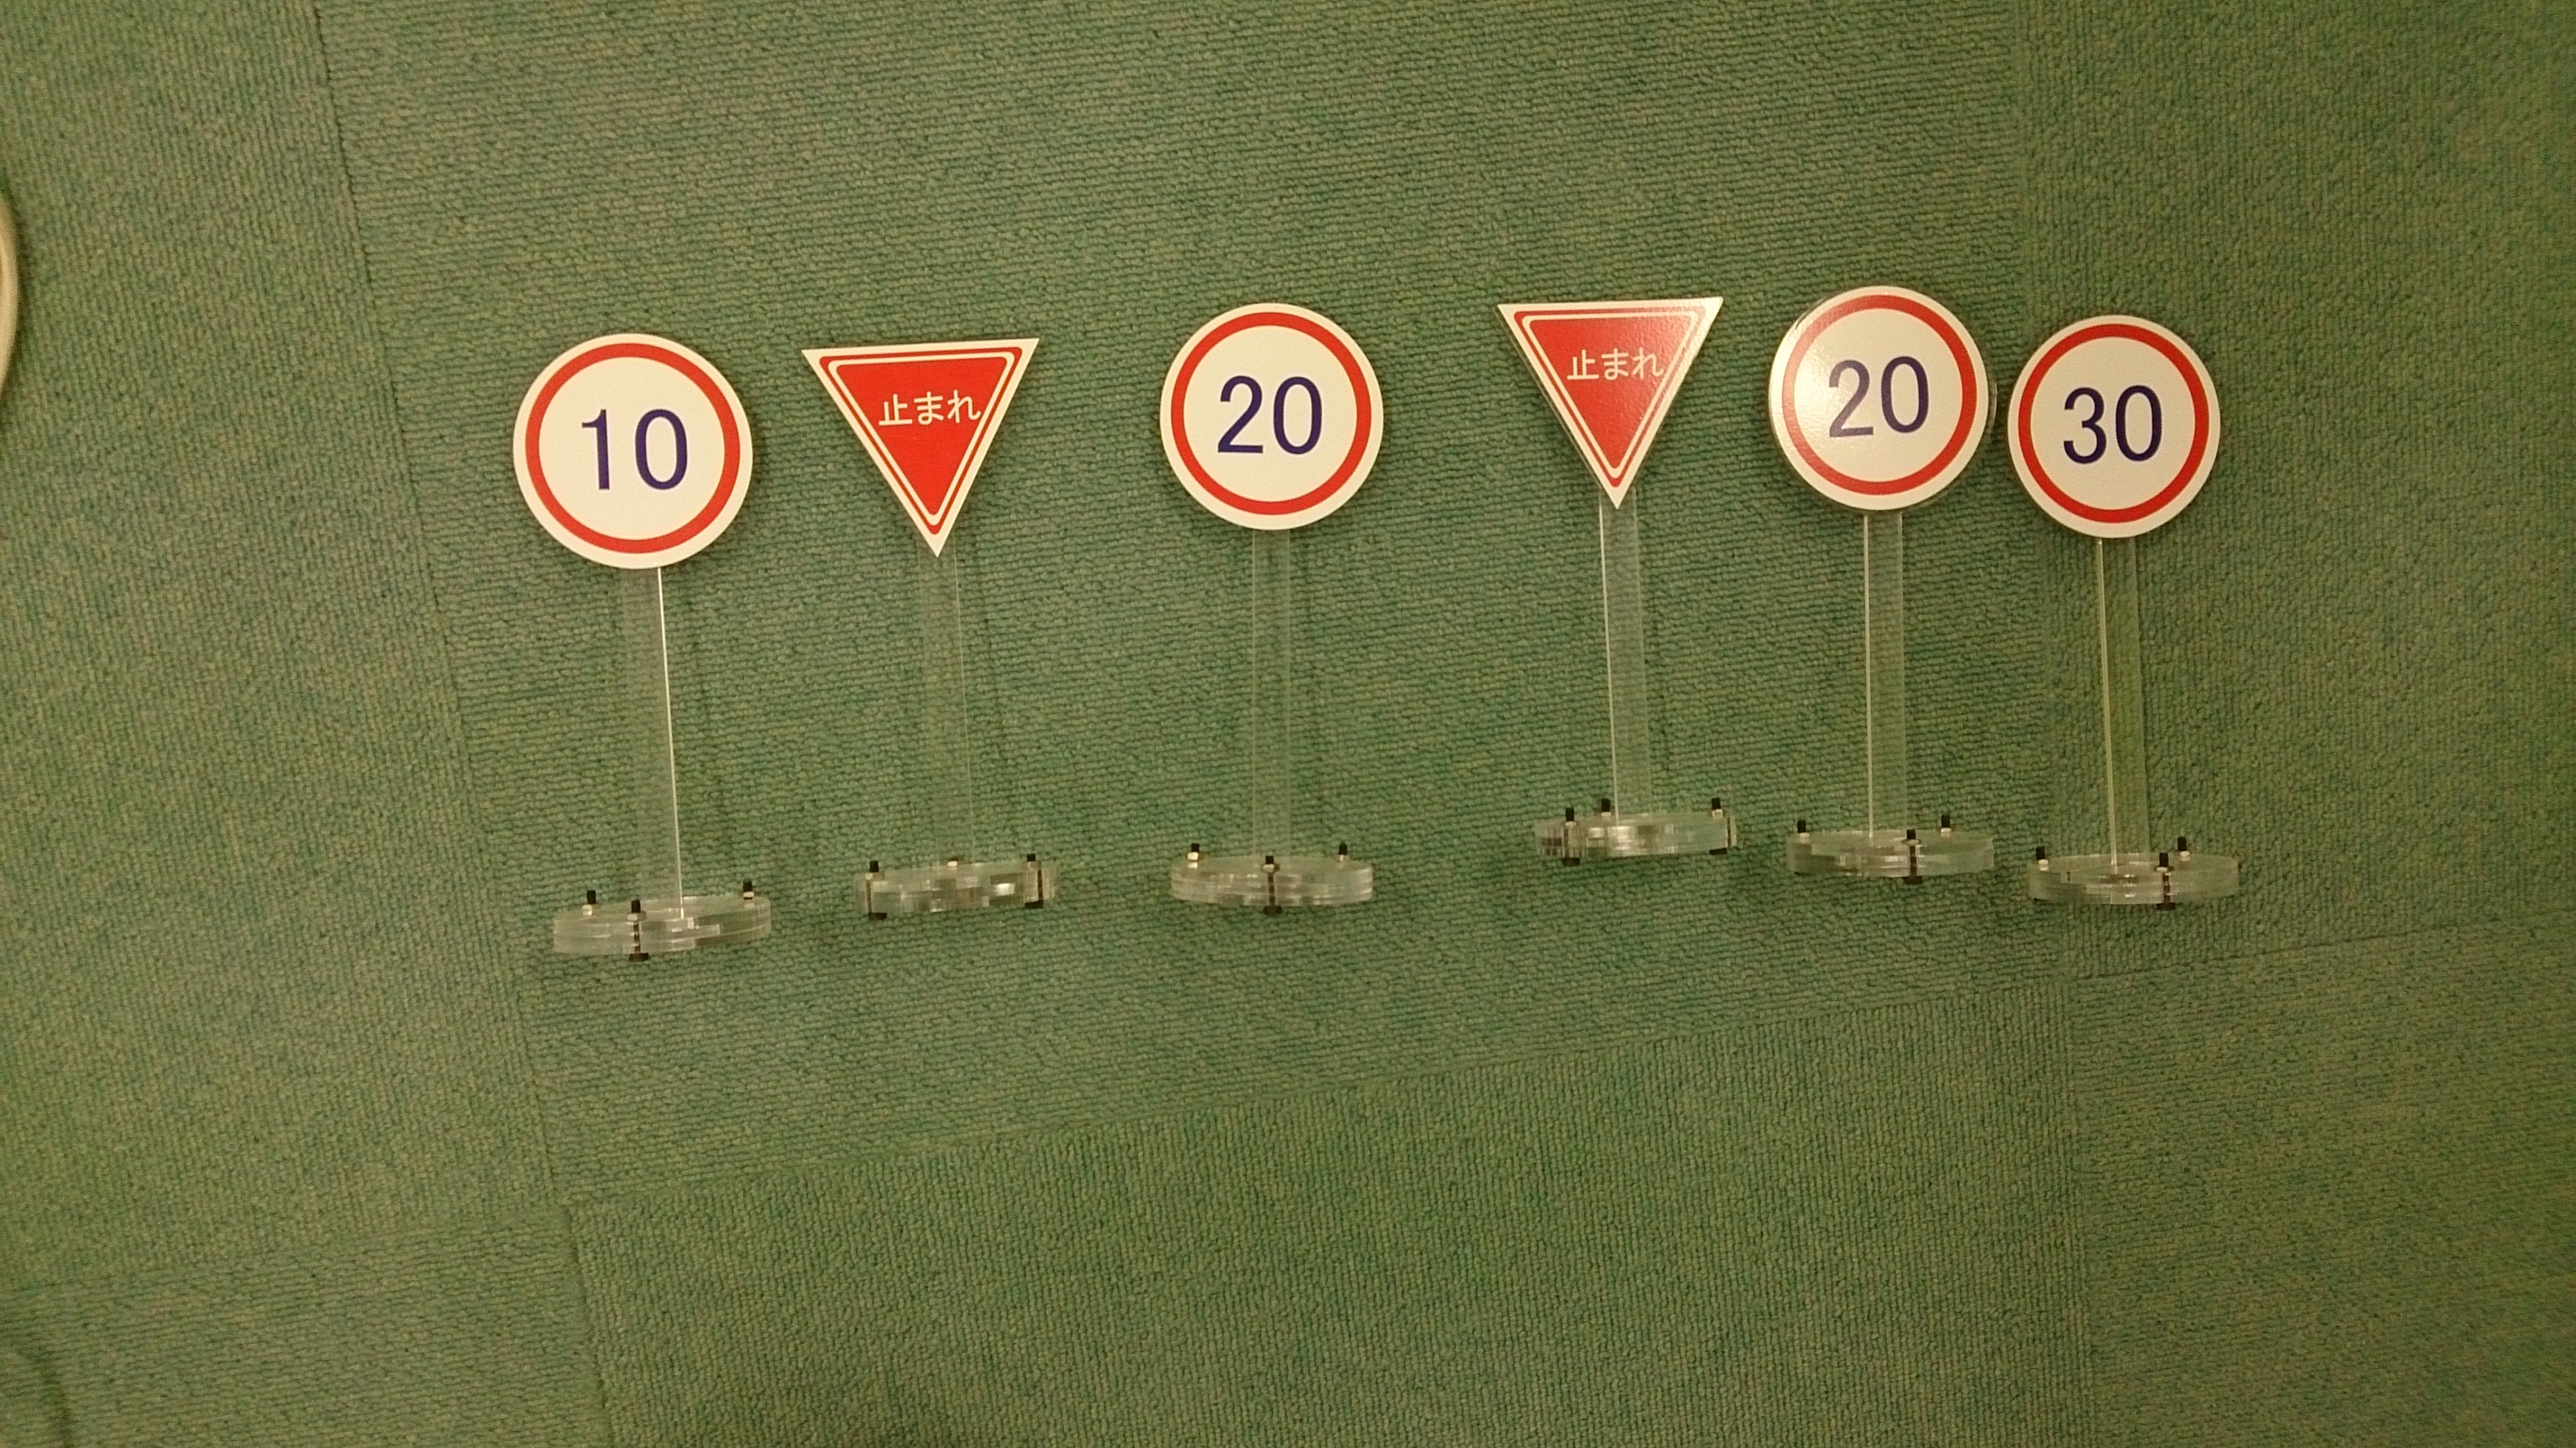speed_10: (510, 332, 752, 568)
speed_20: (1157, 309, 1387, 530), (1766, 285, 1987, 506)
speed_30: (2006, 313, 2224, 539)
stop: (800, 341, 1040, 555), (1500, 301, 1736, 509)
